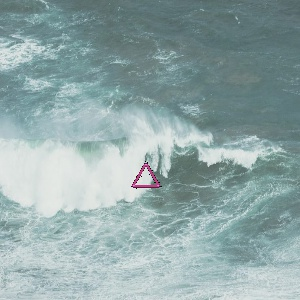triangle: (129, 158, 164, 191)
